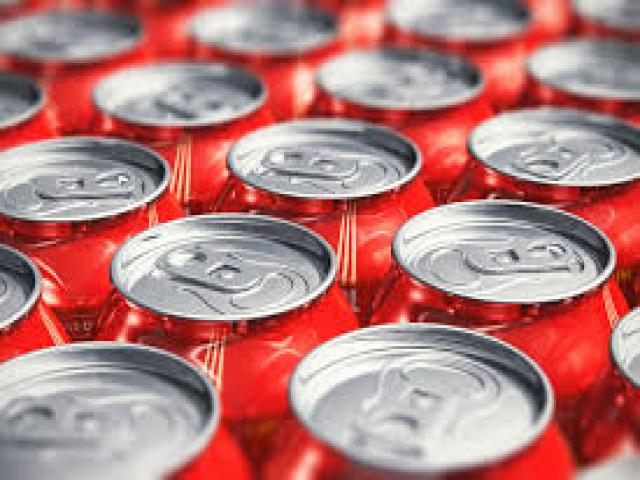Canned_drinks: (86, 202, 372, 462), (363, 194, 628, 438), (254, 318, 575, 478), (193, 113, 435, 315), (430, 102, 638, 278), (0, 338, 254, 478), (0, 134, 191, 320), (72, 47, 286, 194), (300, 42, 500, 191), (507, 34, 638, 126), (0, 236, 88, 362), (575, 304, 638, 478), (0, 68, 72, 139)
